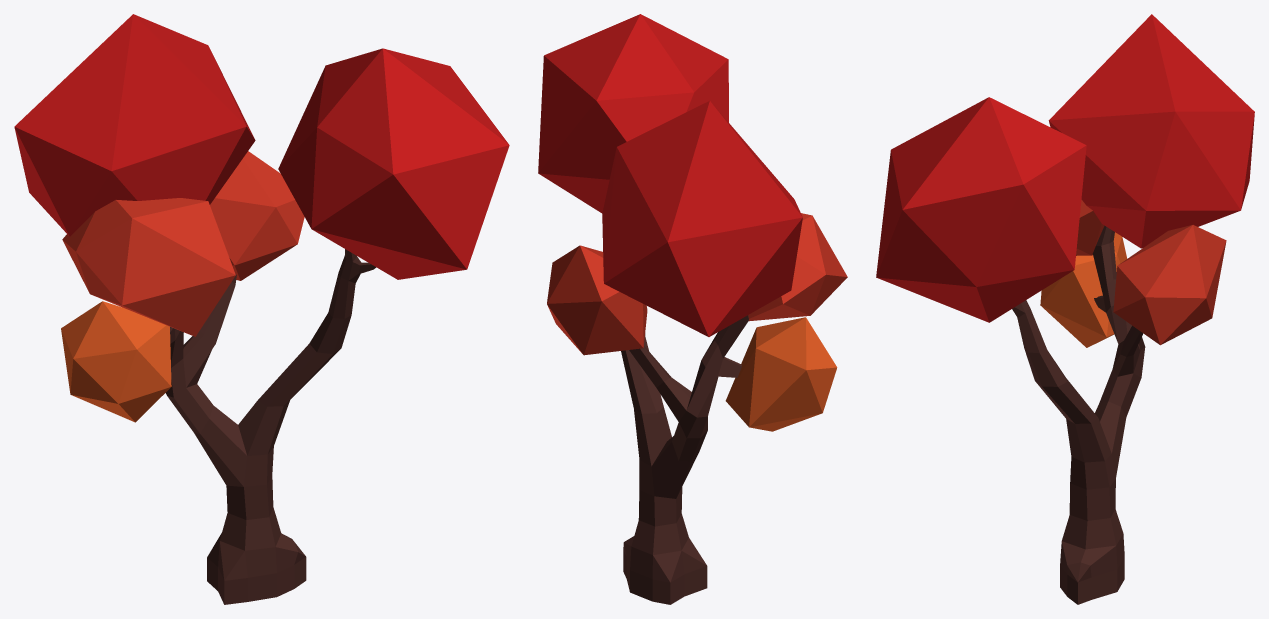
The model's file is tree_3.fbx.
The picture shows the model from 3 angles, left to right: view 1: azimuth 30°, elevation 25°; view 2: azimuth 150°, elevation 25°; view 3: azimuth 270°, elevation 25°; orthographic projection. The views are drawn at different scales.
Parts seen in each view (by area): view 1: tree_3; view 2: tree_3; view 3: tree_3.
Boxes of the visible parts, x1,y1,x2,y2 form: tree_3: (14,14,509,604); tree_3: (538,14,847,604); tree_3: (876,14,1254,604).
Bounding box in the file's own units: 389 × 592 × 383.
